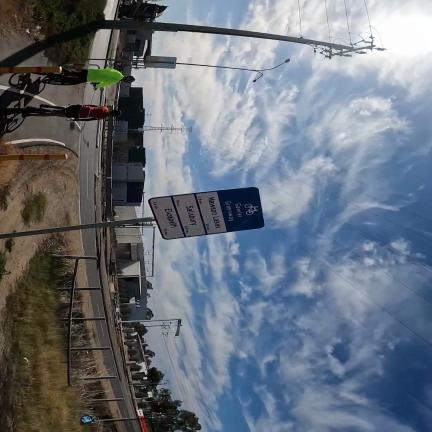Bike_Lane: (0, 75, 107, 109), (0, 116, 82, 148), (0, 36, 30, 58), (16, 54, 48, 66), (0, 75, 11, 88)
Bike_Sign: (148, 187, 264, 240)
